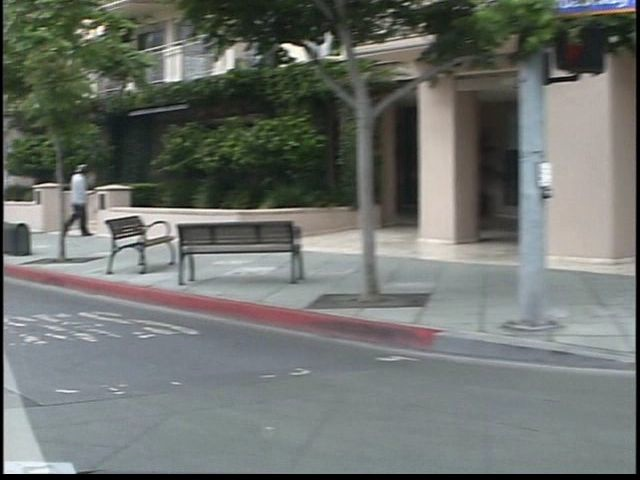person: (48, 158, 88, 247)
